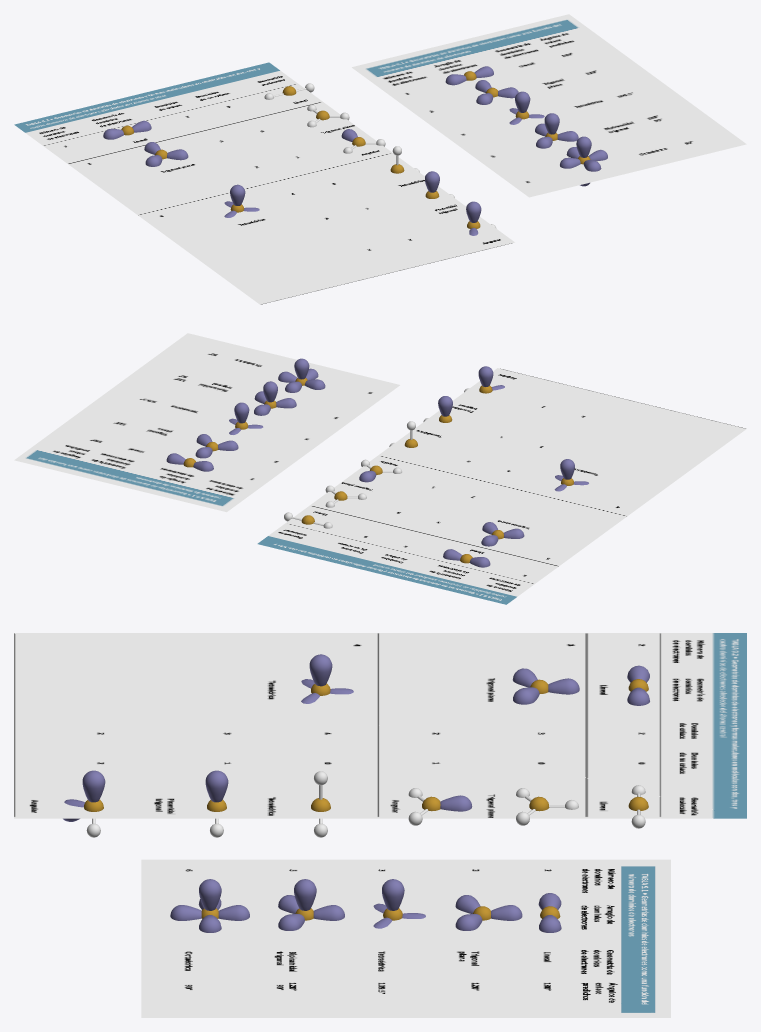
Rendered from MeleculasWebView.glb.
3 views of the same model, one above another, from view 1: azimuth 30°, elevation 25°; view 2: azimuth 150°, elevation 25°; view 3: azimuth 270°, elevation 25° (orthographic). The views are drawn at different scales.
Parts seen in each view (by area): view 1: Tabla9.2, Tabla9.1, Octaédrica.1, Bipiramidal.trigonal.1, Trigonal.plana, Trigonal.Plana.1, Tetraedrica.1, Tetraédrica; view 2: Tabla9.2, Tabla9.1, Octaédrica.1, Bipiramidal.trigonal.1, Trigonal.plana, Trigonal.Plana.1, Tetraedrica.1, Tetraédrica; view 3: Tabla9.2, Tabla9.1, Octaédrica.1, Bipiramidal.trigonal.1, Trigonal.Plana.1, Trigonal.plana, Angular.000, Tetraédrica, Tetraedrica.1, Angular.00, Piramidal.trigonal, Lineal.002 (+3 smaller).
Boxes of the visible parts, box(x1,y1,x2,y2) form: Tabla9.2: box(14, 62, 514, 304); Tabla9.1: box(352, 14, 746, 197); Octaédrica.1: box(560, 136, 607, 186); Bipiramidal.trigonal.1: box(535, 113, 578, 148); Trigonal.plana: box(144, 142, 188, 166); Trigonal.Plana.1: box(475, 80, 518, 104); Tetraedrica.1: box(509, 91, 544, 124); Tetraédrica: box(224, 184, 259, 217); Tabla9.2: box(257, 368, 746, 604); Tabla9.1: box(14, 333, 399, 512); Octaédrica.1: box(278, 358, 325, 392); Bipiramidal.trigonal.1: box(254, 381, 296, 415); Trigonal.plana: box(481, 522, 524, 546); Trigonal.Plana.1: box(195, 434, 238, 458); Tetraedrica.1: box(229, 402, 263, 434); Tetraédrica: box(554, 459, 588, 491); Tabla9.2: box(14, 633, 746, 818); Tabla9.1: box(141, 859, 670, 1017); Octaédrica.1: box(170, 879, 249, 932); Bipiramidal.trigonal.1: box(278, 879, 344, 930); Trigonal.Plana.1: box(455, 895, 522, 930); Trigonal.plana: box(512, 668, 579, 704); Angular.000: box(63, 770, 105, 837); Tetraédrica: box(301, 654, 353, 703); Tetraedrica.1: box(373, 879, 425, 928); Angular.00: box(408, 788, 472, 825); Piramidal.trigonal: box(205, 770, 228, 837); Lineal.002: box(627, 665, 649, 705).
Size of the model in its own units: 9.01 by 0.7892 by 7.25.
6 materials, 2 textured.
